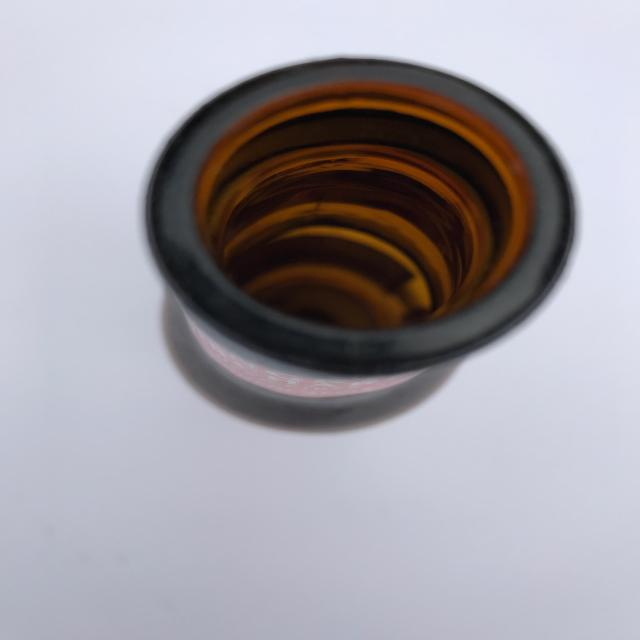glass: (142, 55, 577, 434)
